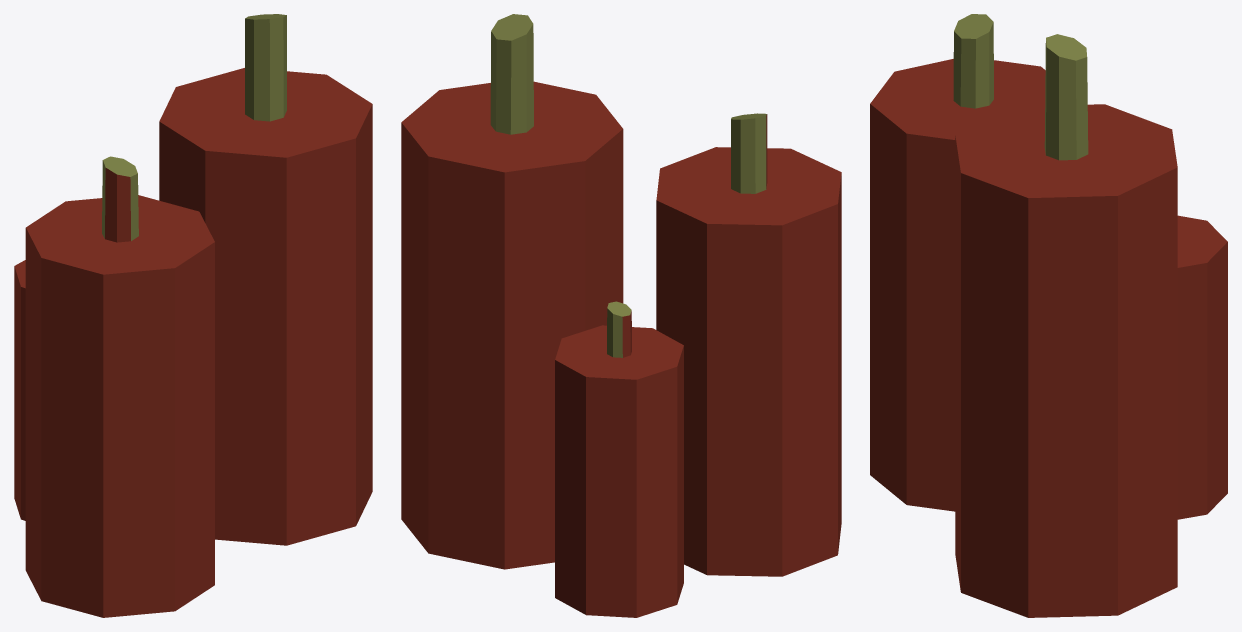
Rendered from Candles_01.fbx.
3 renders of one model, left to right at view 1: azimuth 30°, elevation 25°; view 2: azimuth 150°, elevation 25°; view 3: azimuth 270°, elevation 25°, orthographic. The views are drawn at different scales.
Parts seen in each view (by area): view 1: Candle_01; view 2: Candle_01; view 3: Candle_01.
Boxes of the visible parts, x1=… form: Candle_01: x1=14, y1=14, x2=372, y2=617; Candle_01: x1=401, y1=14, x2=841, y2=617; Candle_01: x1=870, y1=14, x2=1227, y2=617.
Bounding box in the file's own units: 67.26 × 87.41 × 53.44.
